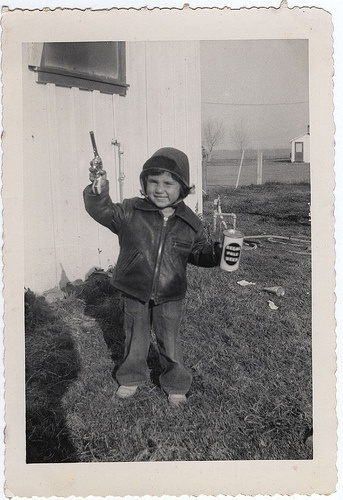head: (138, 148, 190, 215)
person: (81, 148, 227, 405)
